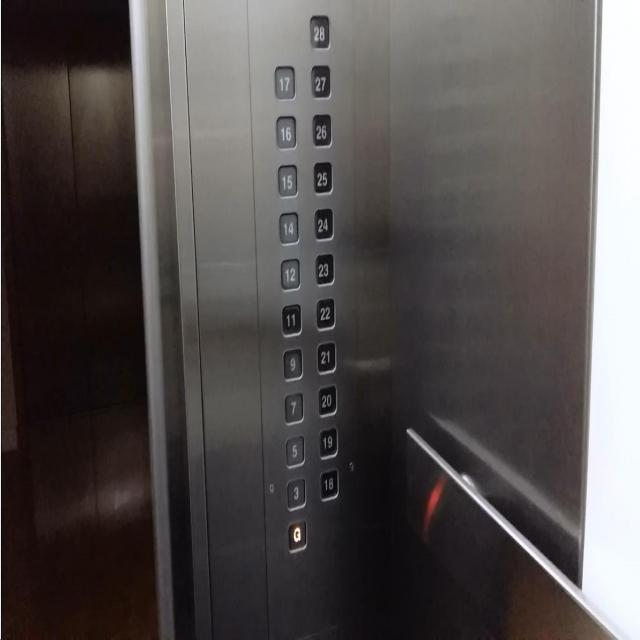11: (278, 299, 302, 338)
12: (279, 255, 301, 292)
14: (277, 211, 299, 246)
15: (276, 162, 298, 200)
16: (275, 114, 298, 150)
17: (273, 63, 296, 102)
18: (318, 465, 339, 503)
19: (318, 424, 338, 462)
20: (317, 381, 337, 419)
21: (316, 338, 337, 378)
22: (314, 295, 336, 331)
23: (314, 251, 335, 287)
24: (312, 205, 335, 243)
25: (312, 158, 334, 196)
26: (311, 110, 332, 149)
27: (309, 62, 331, 99)
28: (308, 11, 332, 50)
3: (286, 473, 306, 511)
5: (284, 432, 305, 469)
7: (284, 390, 304, 424)
9: (282, 344, 304, 382)
G: (286, 515, 308, 553)
